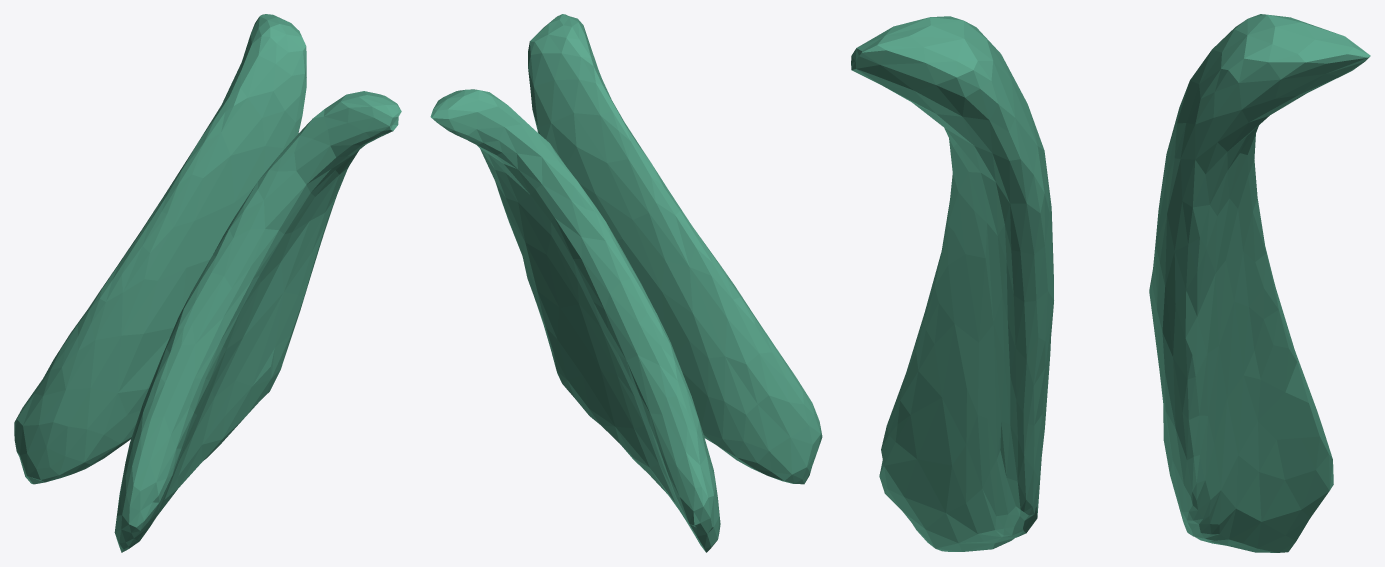
The picture shows the model from 3 angles, left to right: view 1: azimuth 30°, elevation 25°; view 2: azimuth 150°, elevation 25°; view 3: azimuth 270°, elevation 25°; orthographic projection. The views are drawn at different scales.
Visible parts, largest first — view 1: 582.obj; view 2: 582.obj; view 3: 582.obj.
Boxes of the visible parts, x1,y1,x2,y2 form: 582.obj: [14, 14, 401, 552]; 582.obj: [430, 14, 822, 552]; 582.obj: [851, 14, 1370, 552].
Size of the model in its own units: 1212 by 1688 by 1062.
